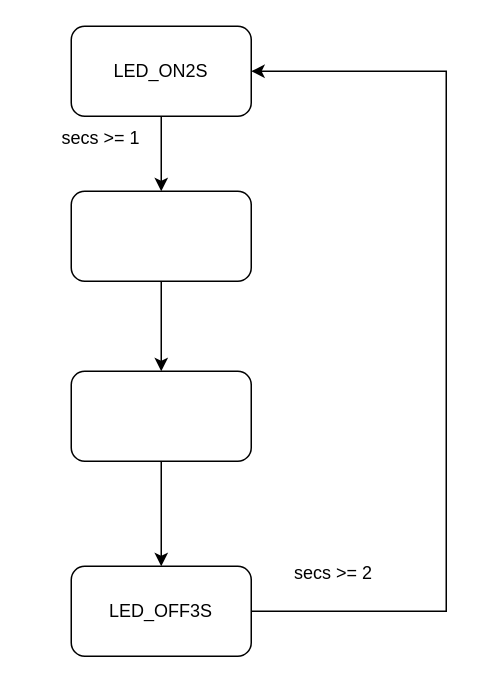
This 485x683 diagram has some shape labels left out. The centre of each missing label's shape, as x and y in pixels:
"LED_OFF1S" goes at (160,235).
"LED_ON1S" goes at (160,415).
